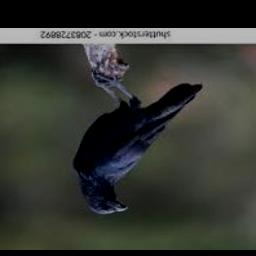Crow: (72, 80, 204, 215)
